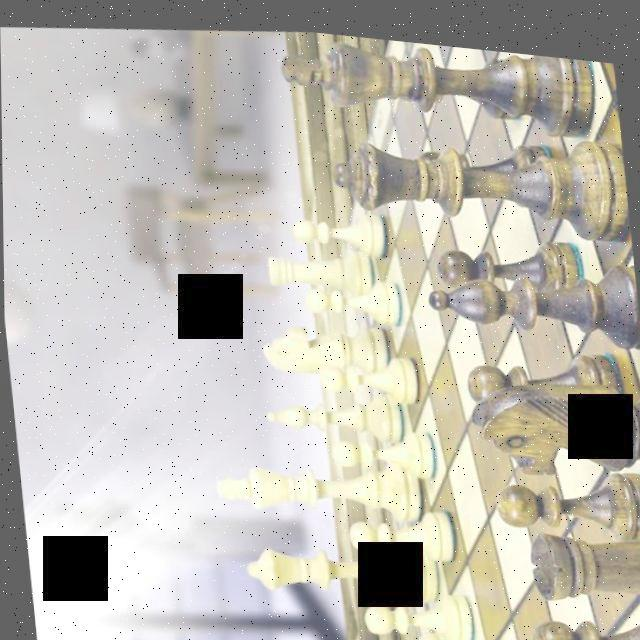chess-table-corners: (322, 242, 366, 312)
